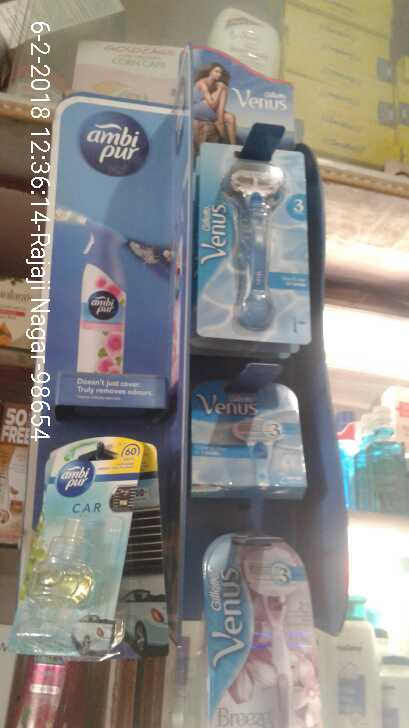beauty: (189, 137, 320, 350), (176, 369, 310, 502)
home: (10, 436, 140, 659)
